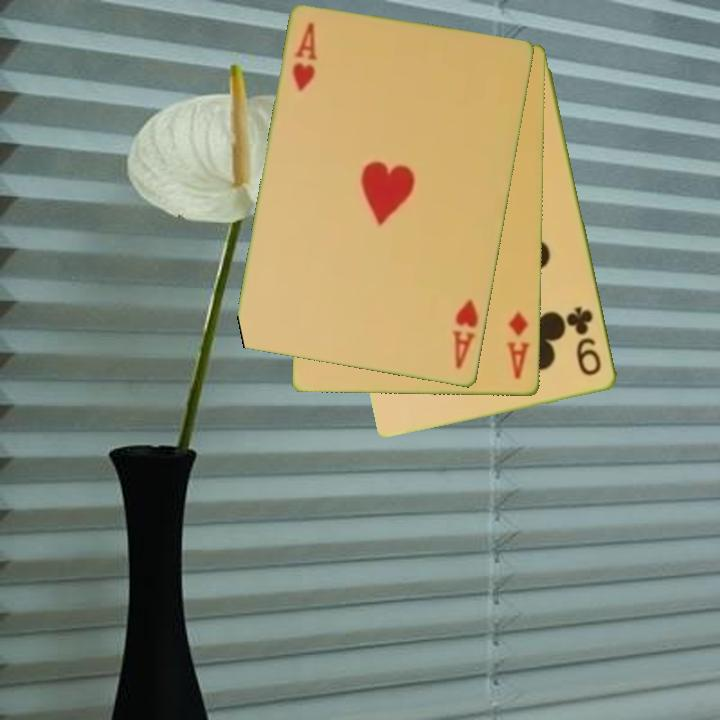9c: (566, 303, 605, 379)
Ad: (503, 308, 533, 382)
Ah: (449, 296, 482, 372), (289, 19, 321, 95)
